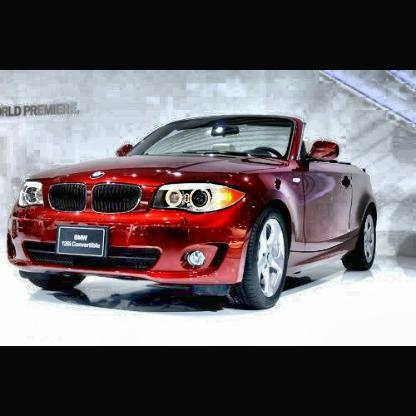BMW 1 Series Convertible 2012: (5, 113, 382, 312)
